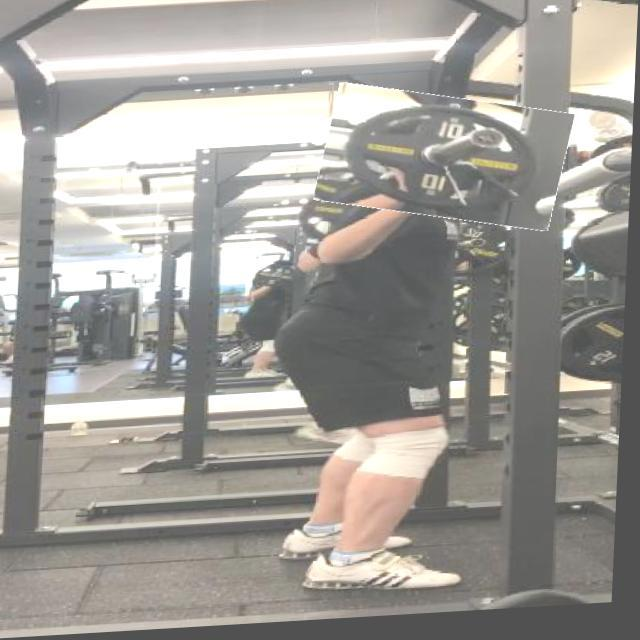barbell: (320, 88, 575, 240)
